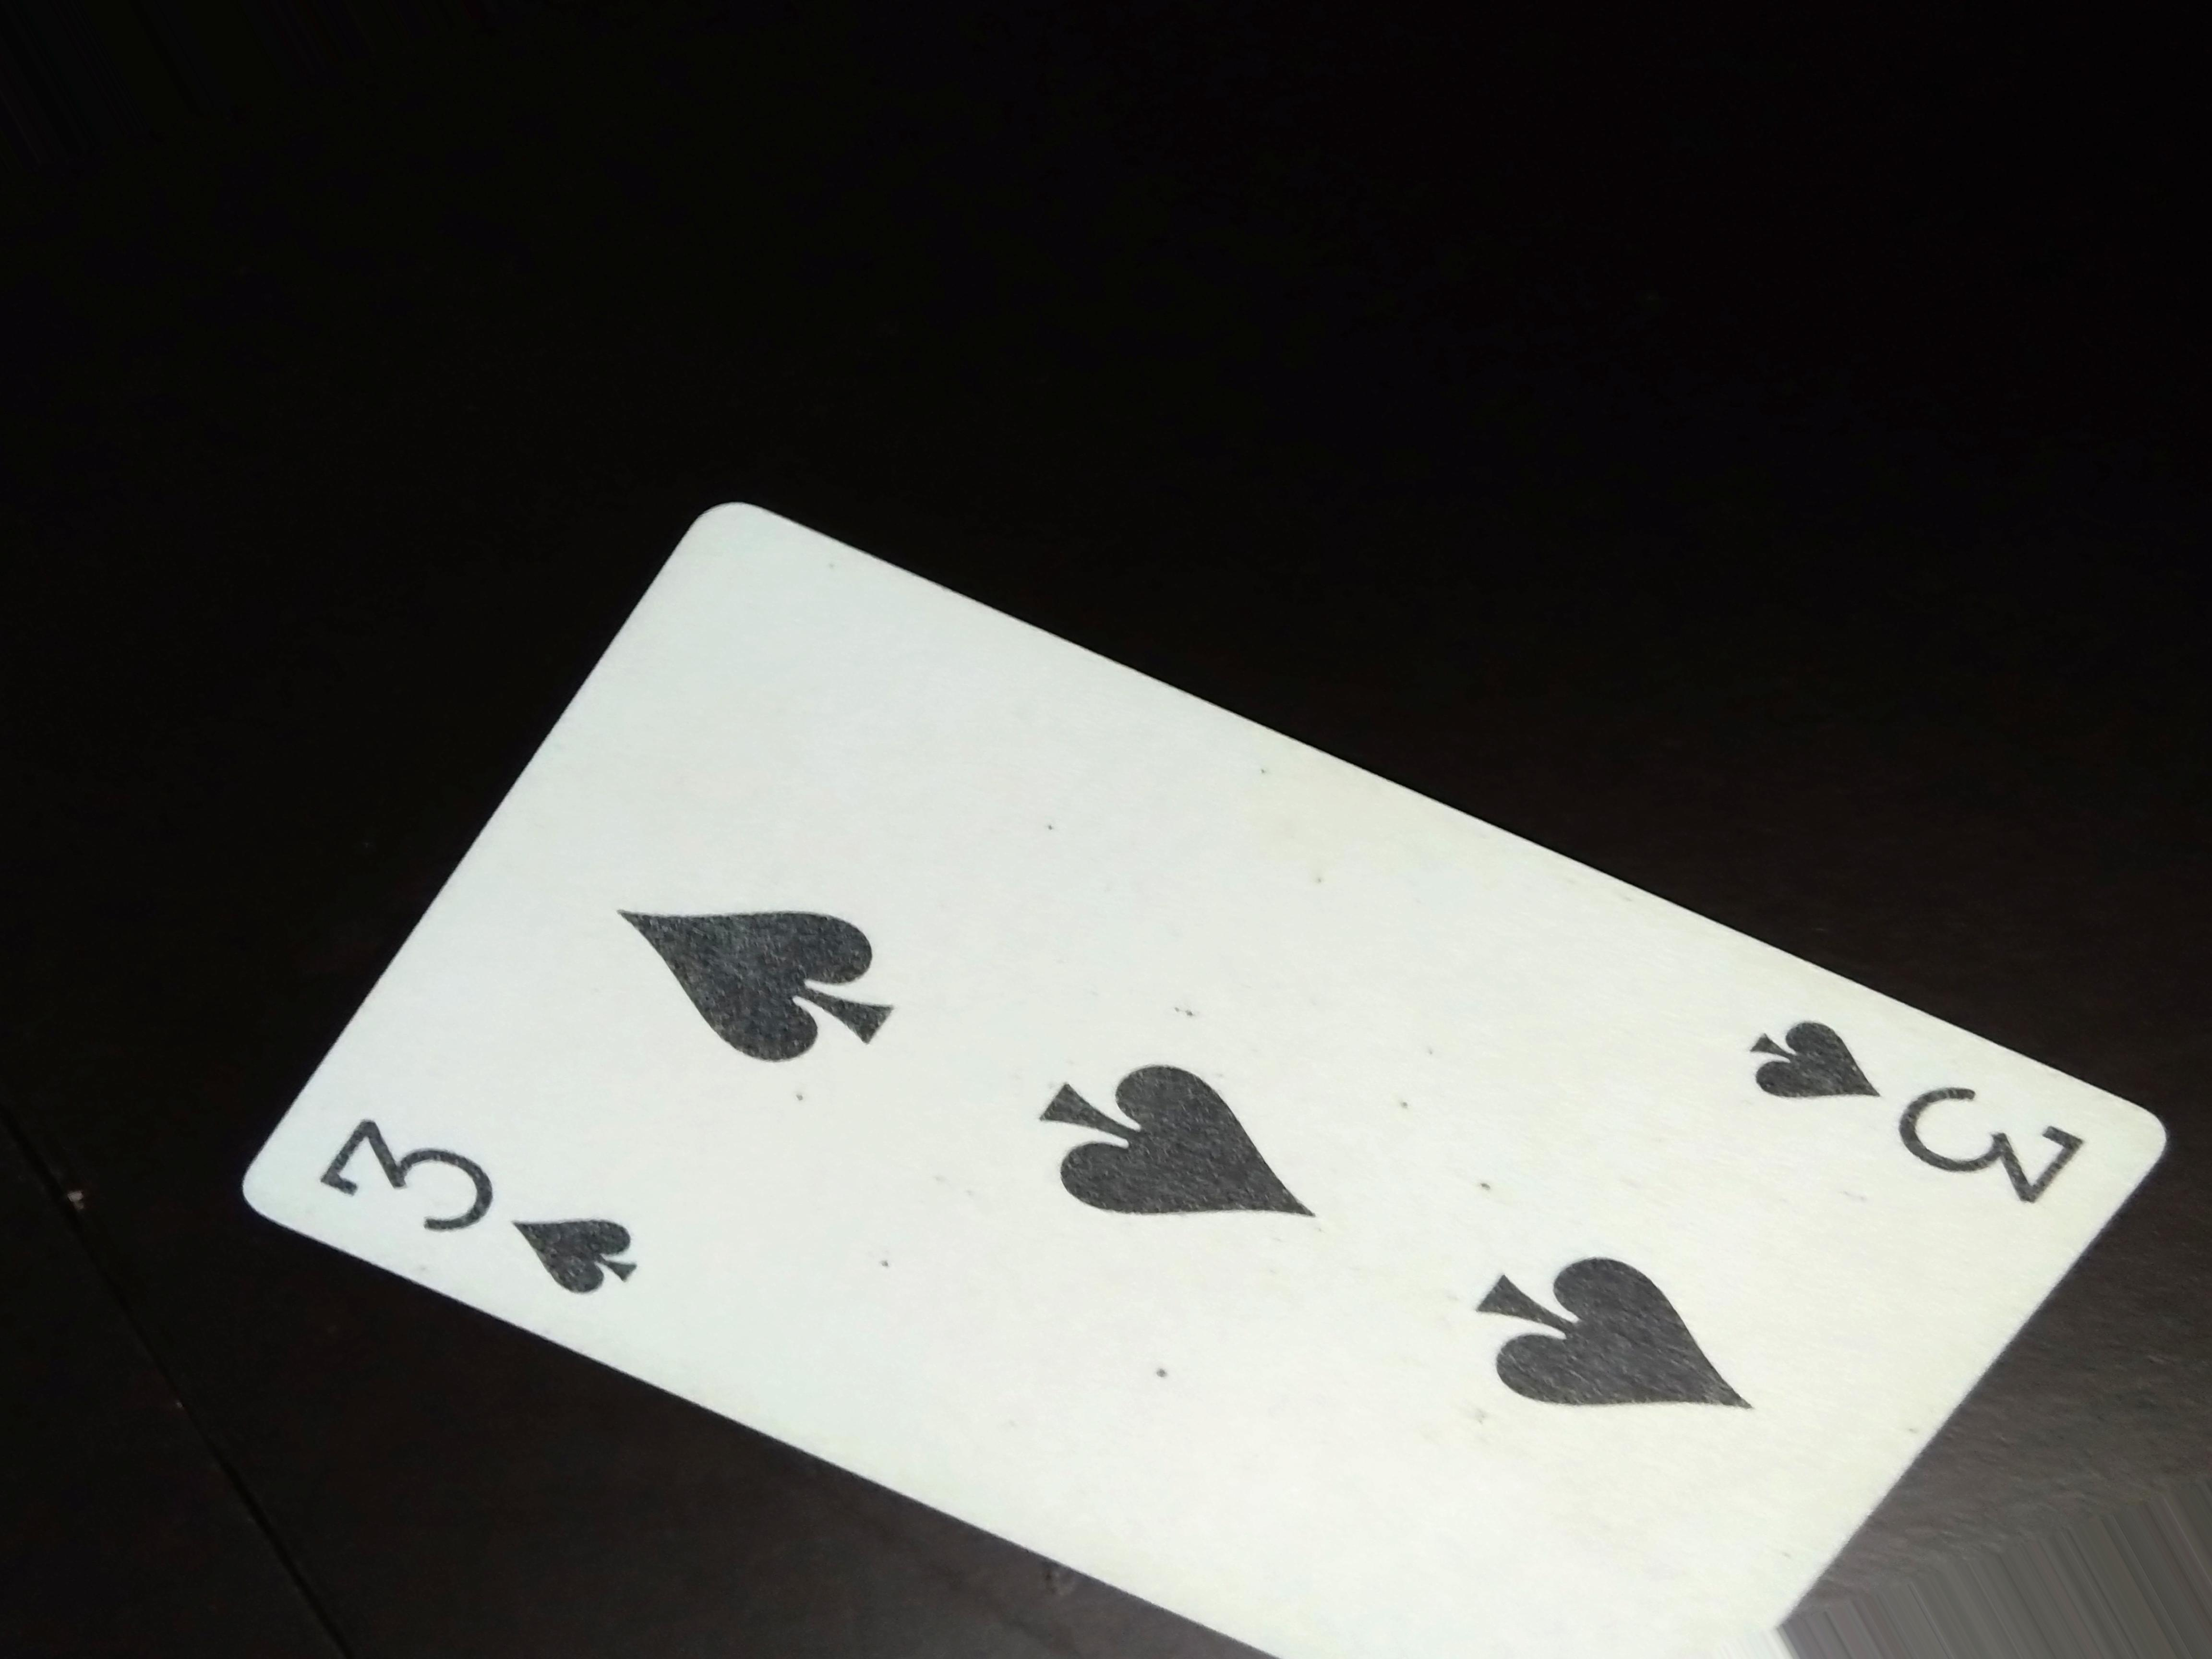3S: (1733, 1018, 2088, 1211)
